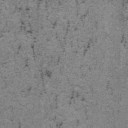oxide scale of temperature system: (16, 2, 85, 109), (50, 14, 87, 36), (76, 42, 90, 56), (58, 48, 66, 62), (120, 34, 128, 46), (56, 120, 64, 128), (121, 0, 128, 8), (18, 121, 22, 128), (89, 66, 92, 72)
